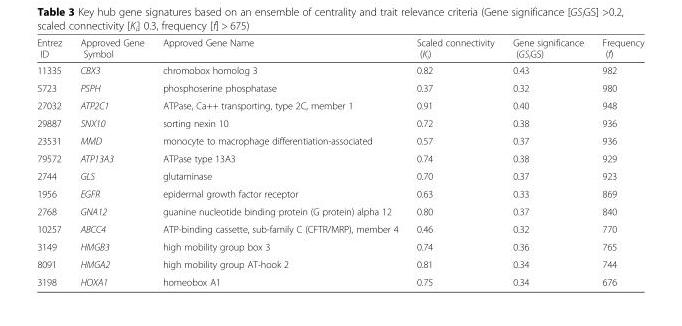table: (36, 36, 643, 287)
table column: (152, 36, 406, 287), (406, 36, 502, 287), (502, 36, 592, 287), (70, 36, 152, 287), (592, 36, 643, 287), (36, 36, 70, 287)
table column header: (36, 36, 643, 62)
table row: (36, 36, 643, 62), (36, 78, 643, 96), (36, 96, 643, 114), (36, 131, 643, 149), (36, 166, 643, 184), (36, 184, 643, 202), (36, 219, 643, 237), (36, 237, 643, 255), (36, 114, 643, 131), (36, 149, 643, 166), (36, 202, 643, 219), (36, 255, 643, 272), (36, 62, 643, 78), (36, 272, 643, 287)
